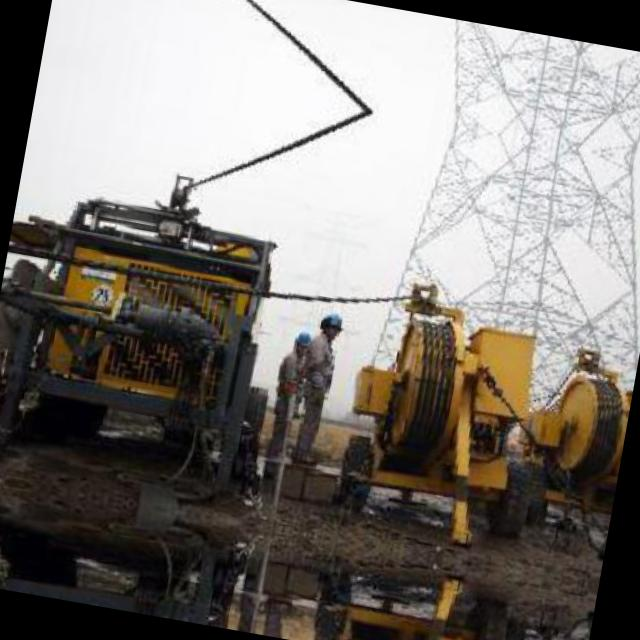helmet: (314, 308, 346, 340), (290, 327, 314, 353)
